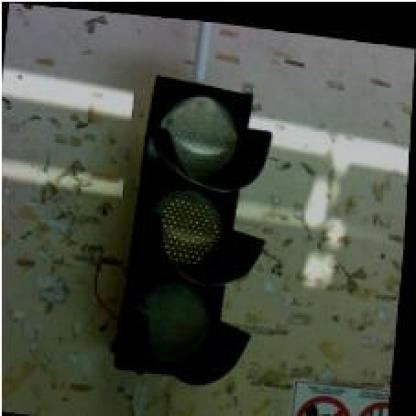yellow: (115, 71, 277, 383)
